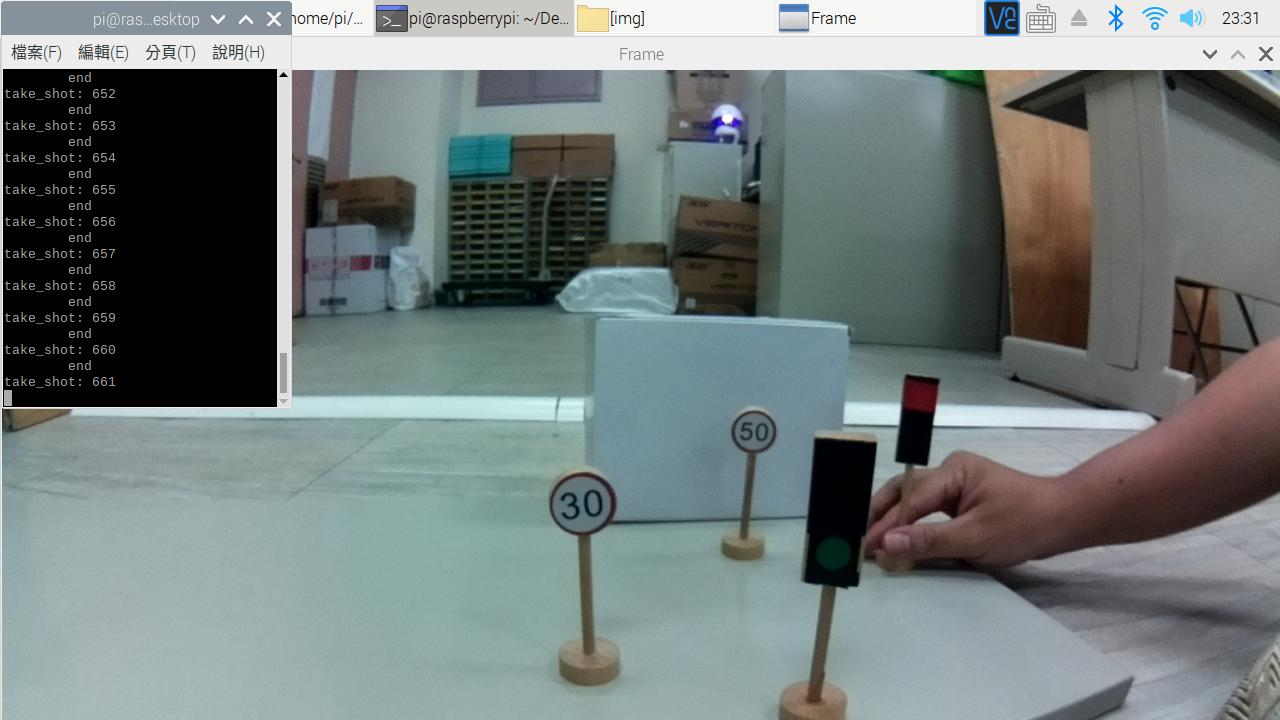Green: (800, 431, 876, 599)
Red: (881, 352, 948, 477)
Speed30: (543, 460, 625, 544)
Speed50: (711, 404, 787, 460)
